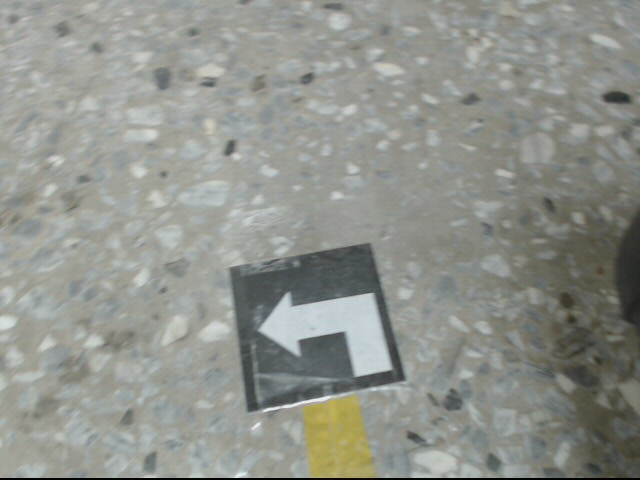left: (229, 242, 409, 415)
